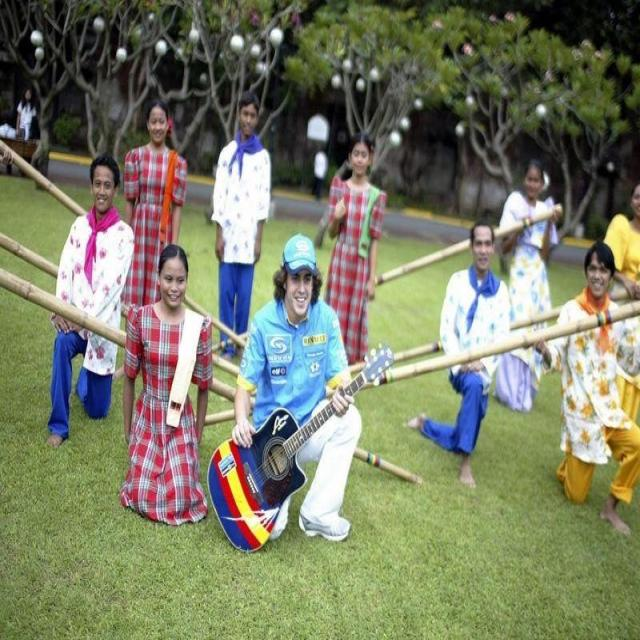guitar: (205, 340, 396, 551)
